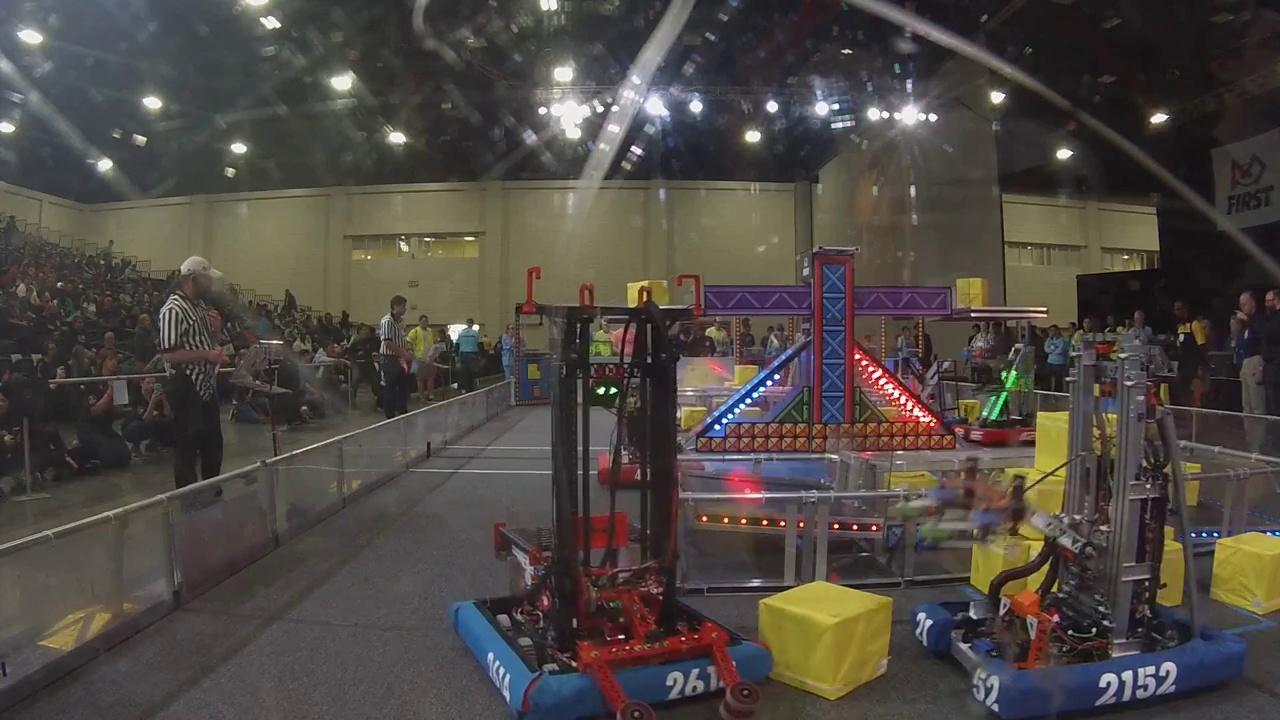robot: (450, 297, 778, 720), (907, 335, 1254, 720)
